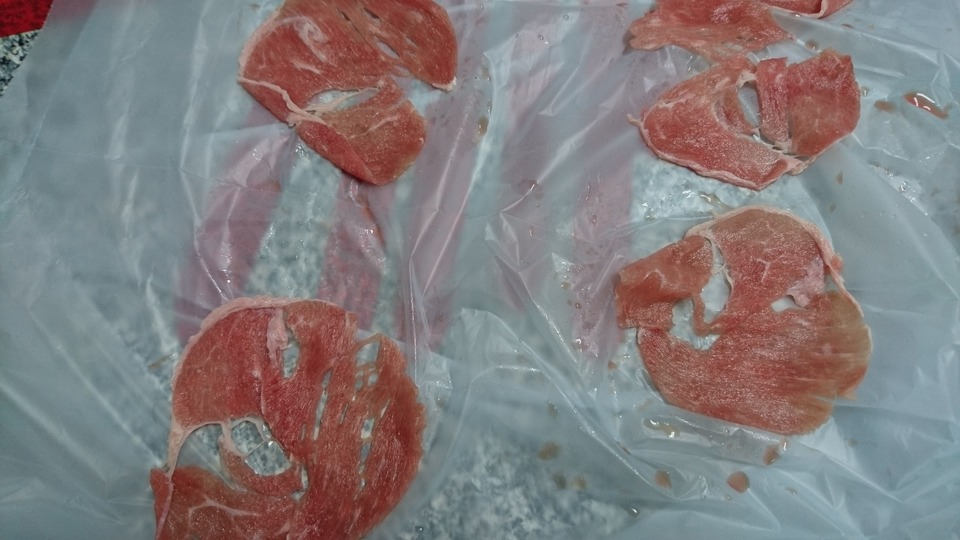restructured meat: (148, 287, 426, 540), (601, 208, 880, 451), (237, 1, 487, 183), (616, 8, 863, 187)
